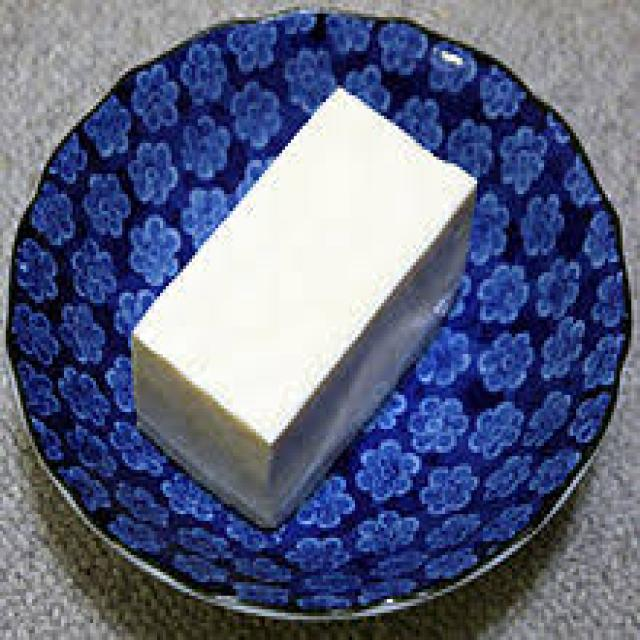tofu: (115, 82, 492, 502)
